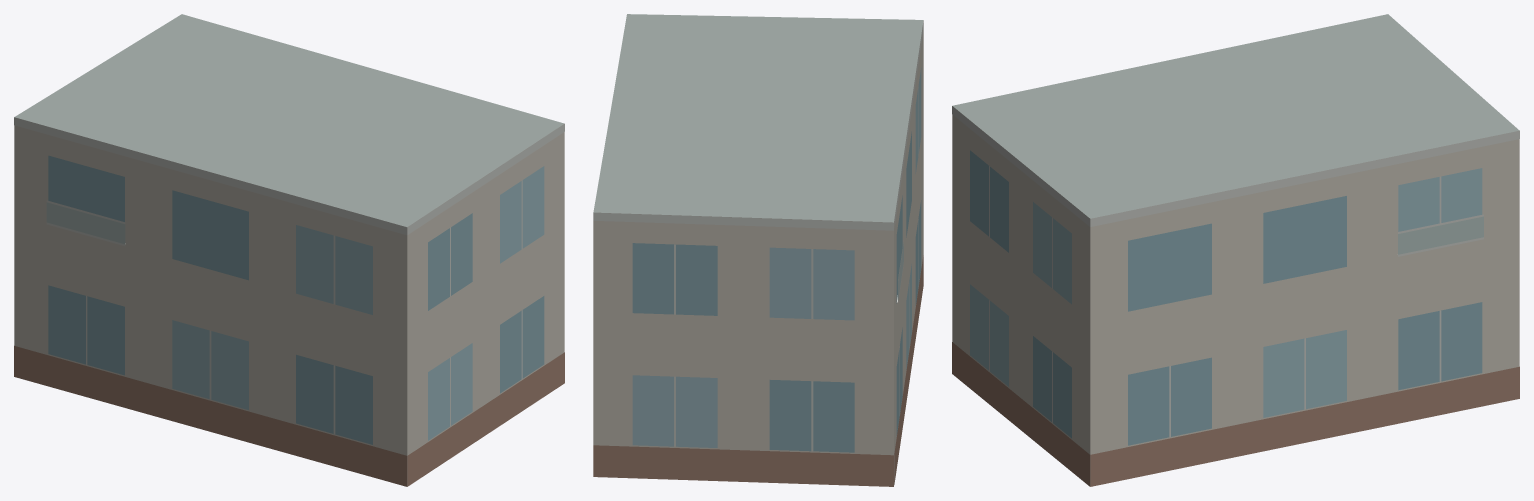
The model's file is survey-upis-32745998.glb.
3 views of the same model, side by side, from view 1: azimuth 30°, elevation 25°; view 2: azimuth 150°, elevation 25°; view 3: azimuth 270°, elevation 25° (orthographic). The views are drawn at different scales.
Visible parts, largest first — view 1: survey-upis-32745998.tmp; view 2: survey-upis-32745998.tmp; view 3: survey-upis-32745998.tmp.
Part boxes in pixels (x1,y1,x2,y2): survey-upis-32745998.tmp: [14, 14, 564, 486]; survey-upis-32745998.tmp: [593, 14, 923, 486]; survey-upis-32745998.tmp: [952, 14, 1519, 486].
Size of the model in its own units: 12.79 by 7.8 by 14.98.
